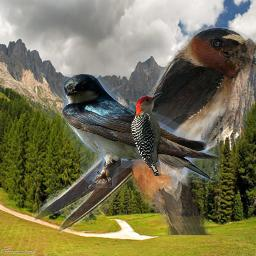Swallow: (32, 27, 256, 235), (62, 74, 220, 188)
Woodpecker: (130, 92, 167, 176)
